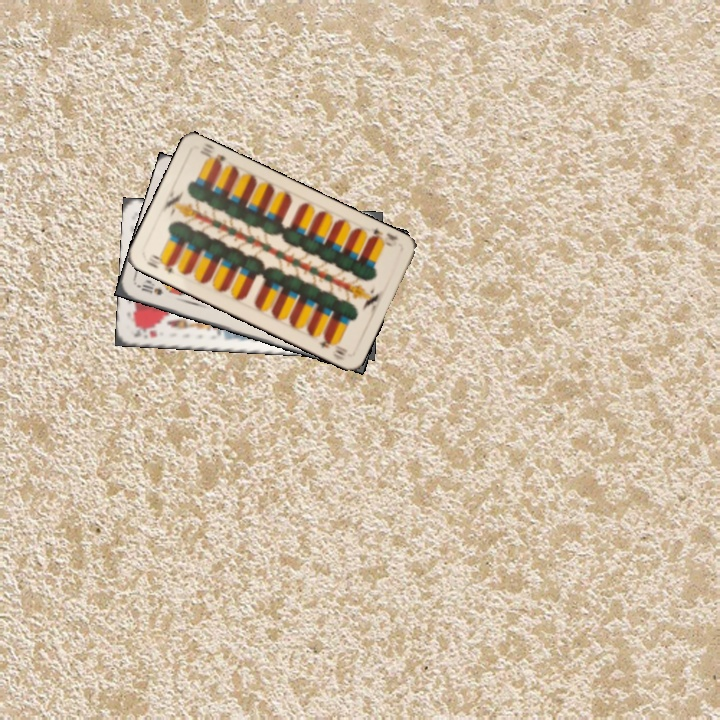E10: (364, 224, 400, 250), (142, 250, 179, 275)
HK: (130, 322, 159, 340)
S10: (133, 279, 166, 298)
